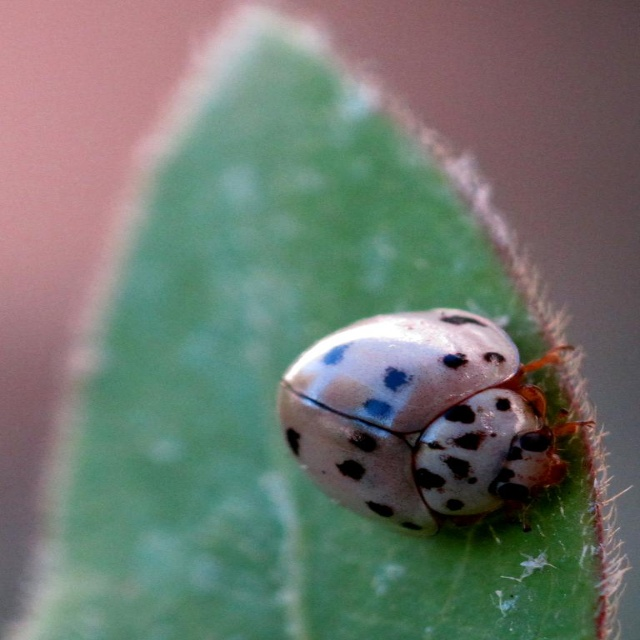Ladybug: (276, 304, 599, 548)
